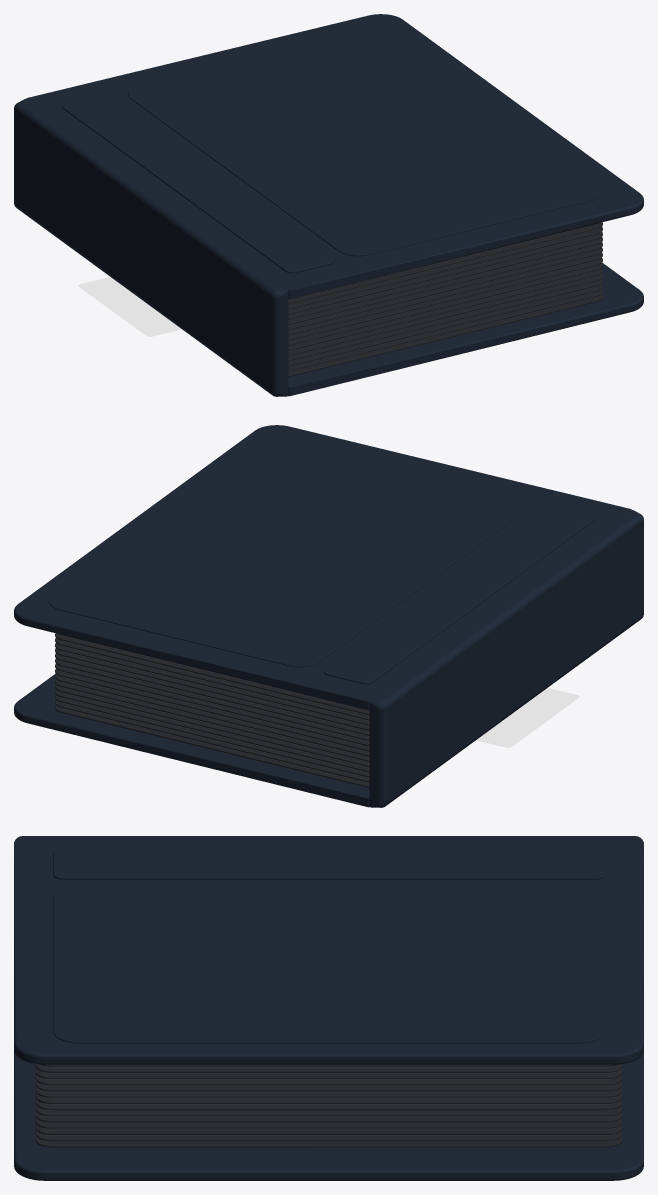
The model's file is album-17h.glb.
3 renders of one model, top to bottom at view 1: azimuth 30°, elevation 25°; view 2: azimuth 150°, elevation 25°; view 3: azimuth 270°, elevation 25°, orthographic. The views are drawn at different scales.
Visible parts, largest first — view 1: Tapa_Panel, Lomo, Tapa_Malla, Tapa_Banda, Contratapa, Plantilla_Carta_F, Hoja_4_Losa, Hoja_5_Losa, Hoja_8_Losa, Hoja_12_Losa, Hoja_16_Losa, Hoja_14_Losa (+9 smaller); view 2: Tapa_Panel, Lomo, Tapa_Malla, Tapa_Banda, Contratapa, Plantilla_Carta_F, Hoja_4_Losa, Hoja_5_Losa, Hoja_8_Losa, Hoja_12_Losa, Hoja_16_Losa, Hoja_14_Losa (+9 smaller); view 3: Tapa_Panel, Tapa_Malla, Contratapa, Tapa_Banda, Hoja_8_Losa, Hoja_11_Losa, Hoja_13_Losa, Hoja_14_Losa, Hoja_16_Losa, Hoja_6_Losa, Hoja_15_Losa, Hoja_7_Losa (+7 smaller).
Boxes of the visible parts, bbox=[...] form: Tapa_Panel: bbox=[128, 28, 608, 256]; Lomo: bbox=[14, 99, 288, 396]; Tapa_Malla: bbox=[26, 14, 643, 299]; Tapa_Banda: bbox=[61, 94, 334, 273]; Contratapa: bbox=[288, 262, 643, 396]; Plantilla_Carta_F: bbox=[78, 277, 181, 336]; Hoja_4_Losa: bbox=[288, 232, 602, 314]; Hoja_5_Losa: bbox=[288, 237, 602, 319]; Hoja_8_Losa: bbox=[288, 253, 602, 335]; Hoja_12_Losa: bbox=[288, 273, 602, 356]; Hoja_16_Losa: bbox=[288, 294, 602, 376]; Hoja_14_Losa: bbox=[288, 284, 602, 366]; Tapa_Panel: bbox=[49, 439, 529, 667]; Lomo: bbox=[369, 510, 643, 807]; Tapa_Malla: bbox=[14, 425, 631, 710]; Tapa_Banda: bbox=[323, 505, 596, 684]; Contratapa: bbox=[14, 673, 369, 807]; Plantilla_Carta_F: bbox=[476, 688, 579, 747]; Hoja_4_Losa: bbox=[55, 643, 369, 725]; Hoja_5_Losa: bbox=[55, 648, 369, 730]; Hoja_8_Losa: bbox=[55, 664, 369, 746]; Hoja_12_Losa: bbox=[55, 684, 369, 767]; Hoja_16_Losa: bbox=[55, 705, 369, 787]; Hoja_14_Losa: bbox=[55, 695, 369, 777]; Tapa_Panel: bbox=[53, 886, 604, 1043]; Tapa_Malla: bbox=[14, 842, 643, 1064]; Contratapa: bbox=[14, 1051, 643, 1180]; Tapa_Banda: bbox=[53, 850, 604, 879]; Hoja_8_Losa: bbox=[35, 1086, 622, 1097]; Hoja_11_Losa: bbox=[35, 1104, 622, 1116]; Hoja_13_Losa: bbox=[35, 1117, 622, 1128]; Hoja_14_Losa: bbox=[35, 1123, 622, 1134]; Hoja_16_Losa: bbox=[35, 1135, 622, 1147]; Hoja_6_Losa: bbox=[35, 1073, 622, 1085]; Hoja_15_Losa: bbox=[35, 1129, 622, 1141]; Hoja_7_Losa: bbox=[35, 1080, 622, 1091].
Size of the model in its own units: 0.2895 by 0.0727 by 0.322.
